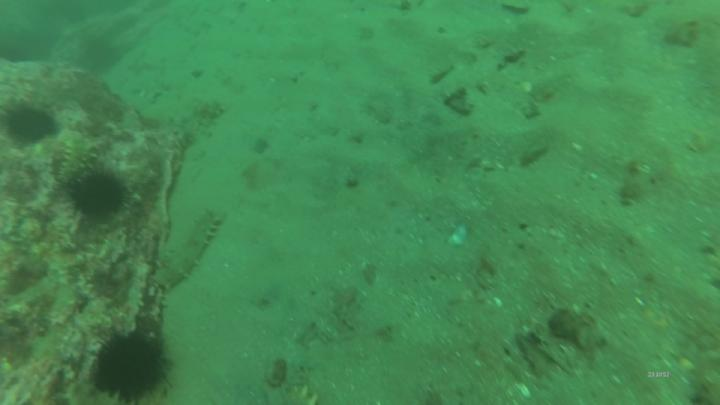echinus: (83, 317, 179, 405), (68, 164, 133, 223), (5, 96, 63, 151)
holothurian: (149, 204, 226, 294), (54, 137, 94, 188)
